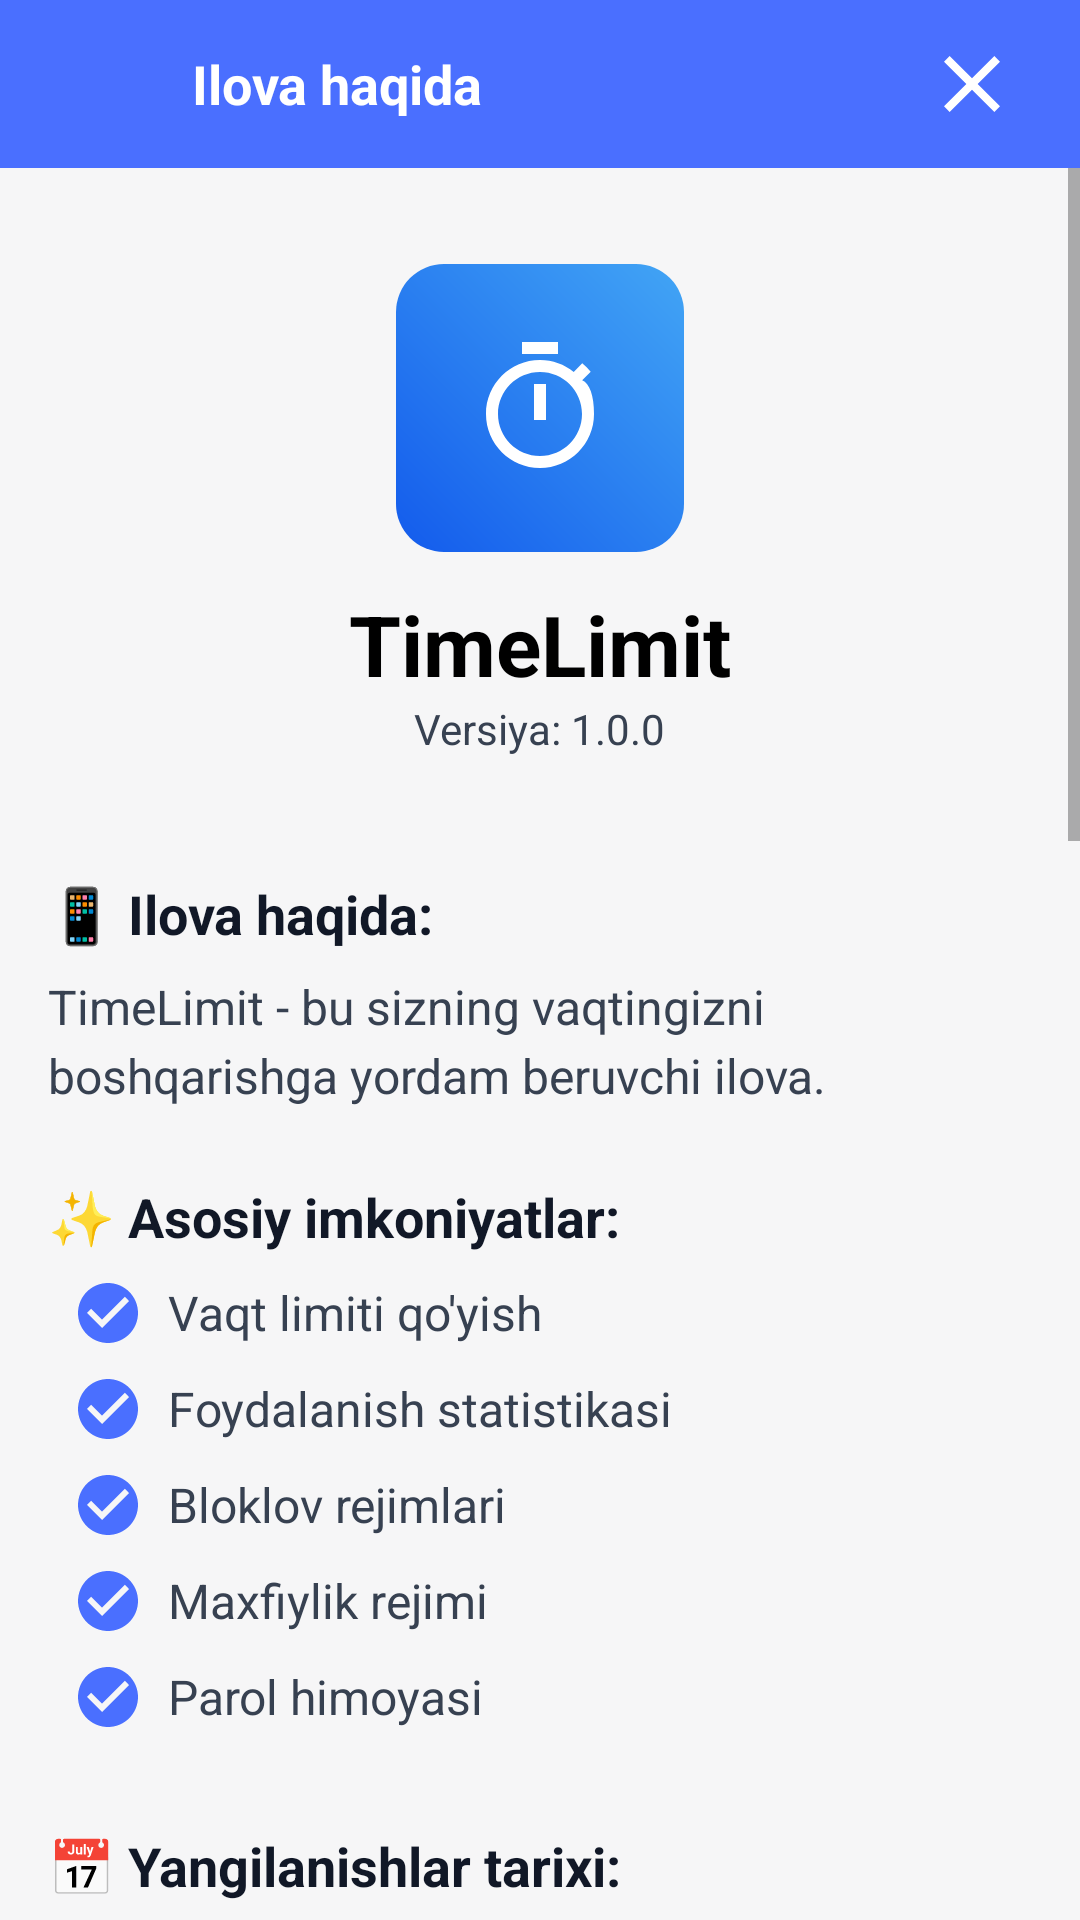

Screen size 1080 x 1920. Icon name, then its box in pixels as bbox=[x1, y1, x2, y2]:
close: bbox=[944, 56, 1000, 112]
timer: bbox=[396, 264, 684, 552]
